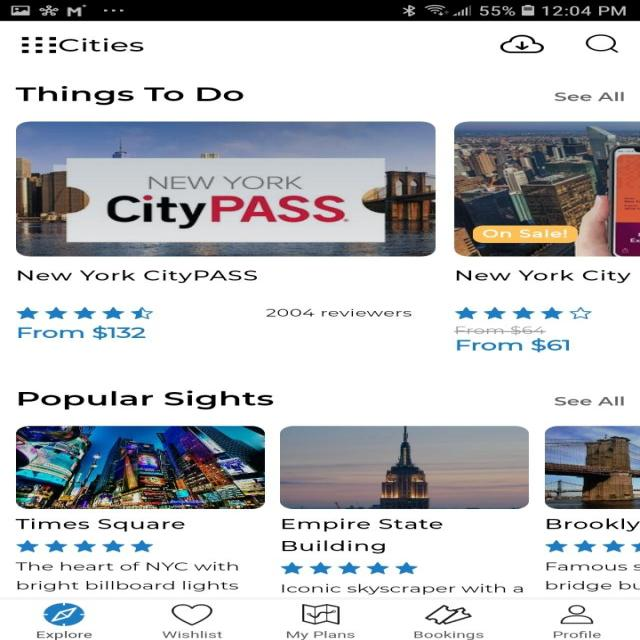Icon: (16, 306, 154, 320), (280, 561, 418, 574), (454, 306, 592, 319), (16, 540, 153, 552), (544, 539, 639, 552), (424, 604, 472, 624), (44, 602, 84, 626), (170, 603, 212, 625), (498, 34, 544, 54), (302, 603, 339, 625), (559, 604, 593, 624), (585, 34, 618, 53), (21, 37, 57, 54)
Image: (15, 121, 436, 256), (453, 121, 639, 256), (15, 426, 265, 510), (279, 426, 528, 510), (544, 426, 639, 508)
Text: (14, 561, 238, 592), (281, 518, 442, 554), (18, 390, 273, 409), (15, 86, 244, 105), (17, 269, 257, 283), (545, 561, 639, 592), (281, 583, 523, 595), (455, 269, 630, 283), (15, 518, 185, 532), (17, 325, 146, 340), (455, 338, 569, 352), (546, 518, 640, 532), (265, 308, 411, 317), (59, 38, 144, 52), (453, 325, 546, 335), (554, 396, 624, 406), (553, 92, 623, 102), (414, 630, 484, 639), (286, 630, 355, 639), (36, 630, 92, 639), (163, 630, 223, 638), (552, 630, 600, 638)
TextButton: (471, 225, 577, 243)
